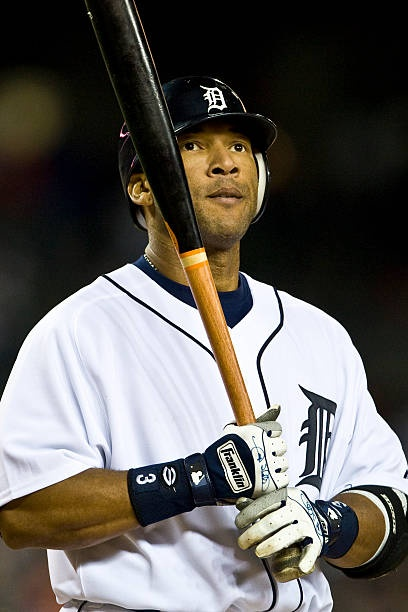bita: (81, 1, 298, 565)
